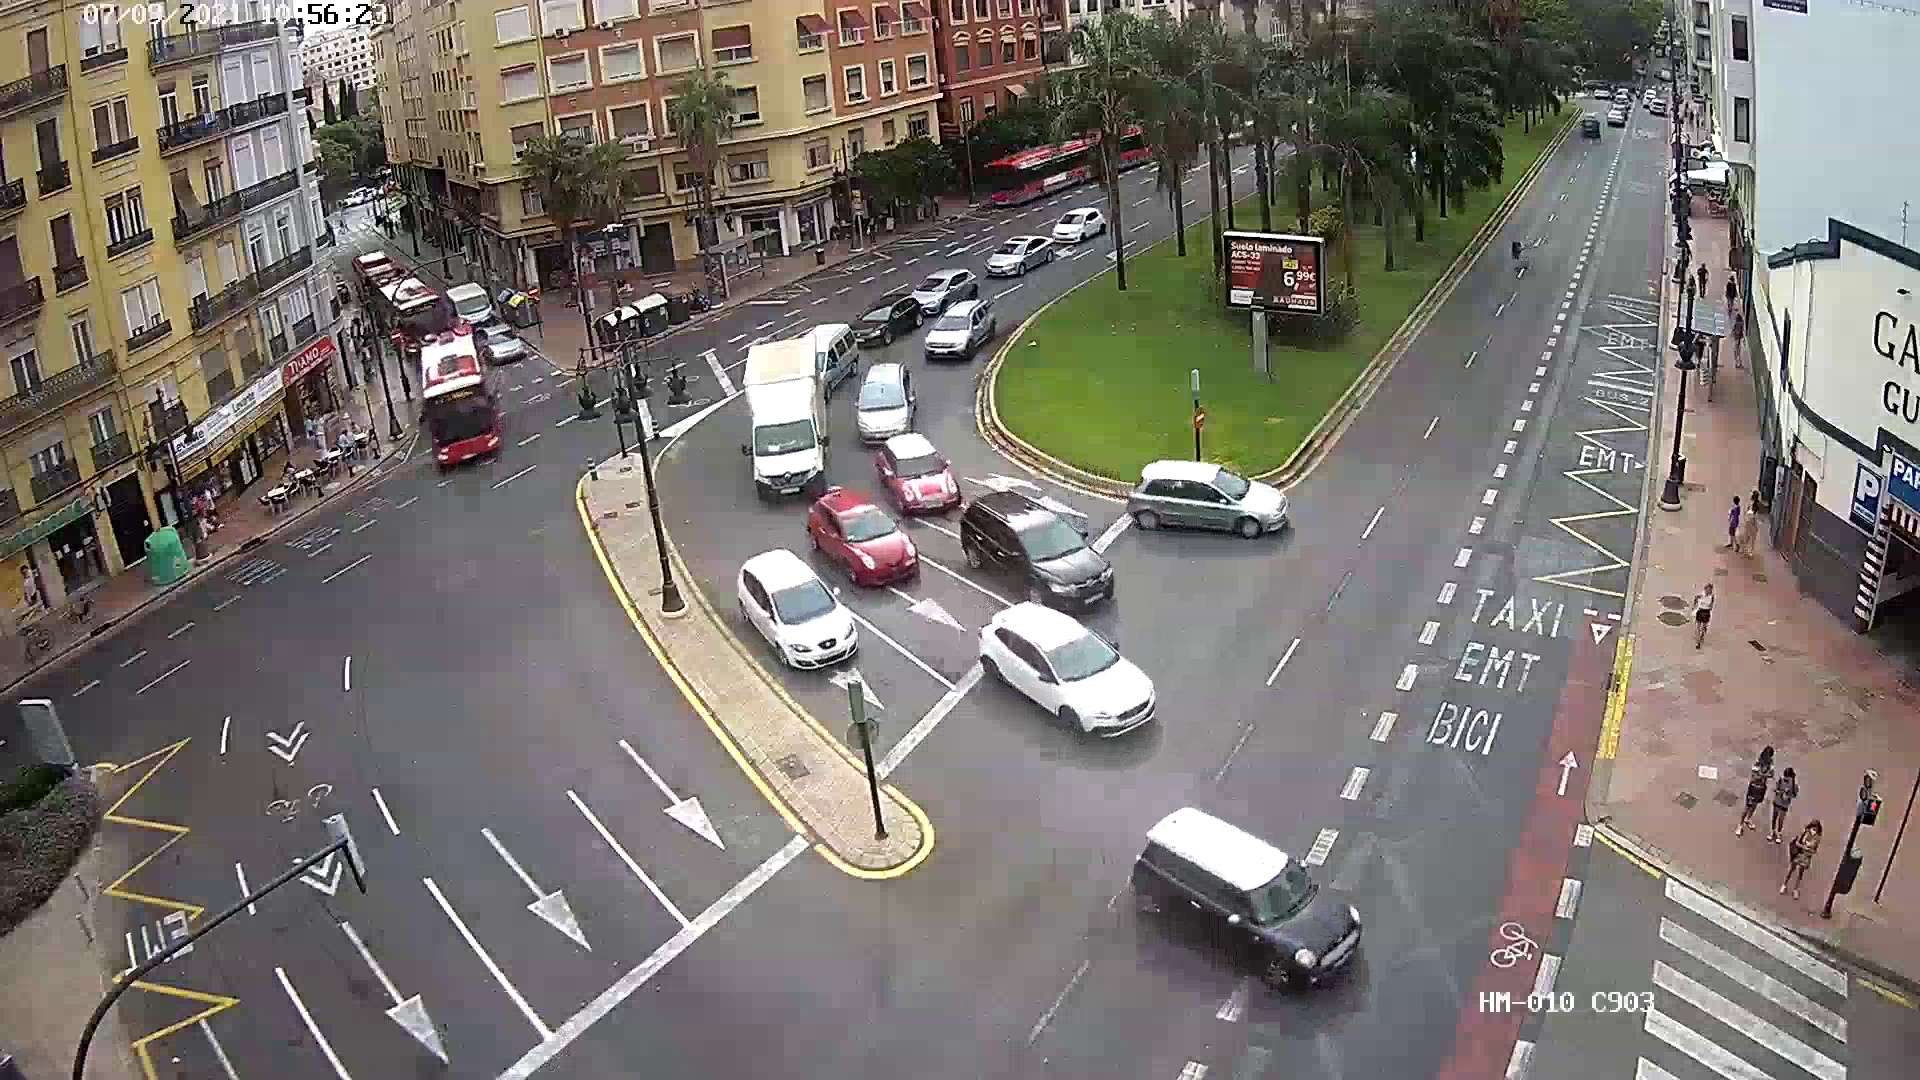Cars: (1113, 819, 1366, 1000), (967, 601, 1171, 741), (725, 551, 866, 676), (795, 502, 920, 582), (851, 356, 926, 447), (874, 440, 964, 514), (845, 295, 918, 342), (920, 315, 982, 361), (913, 272, 980, 305), (984, 244, 1054, 272), (1054, 207, 1105, 243)
